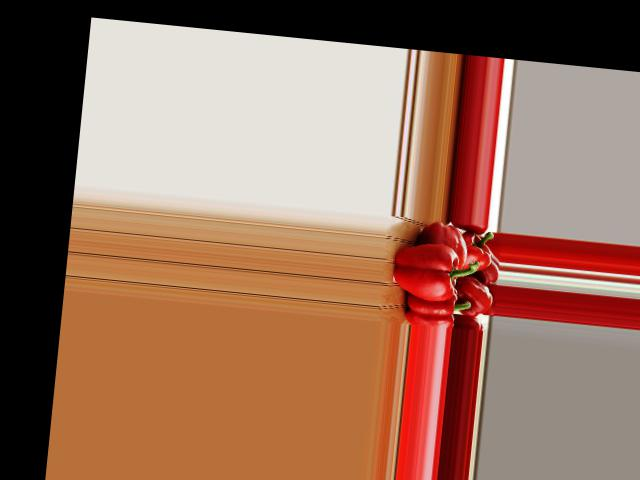bell_pepper: (456, 226, 495, 272)
